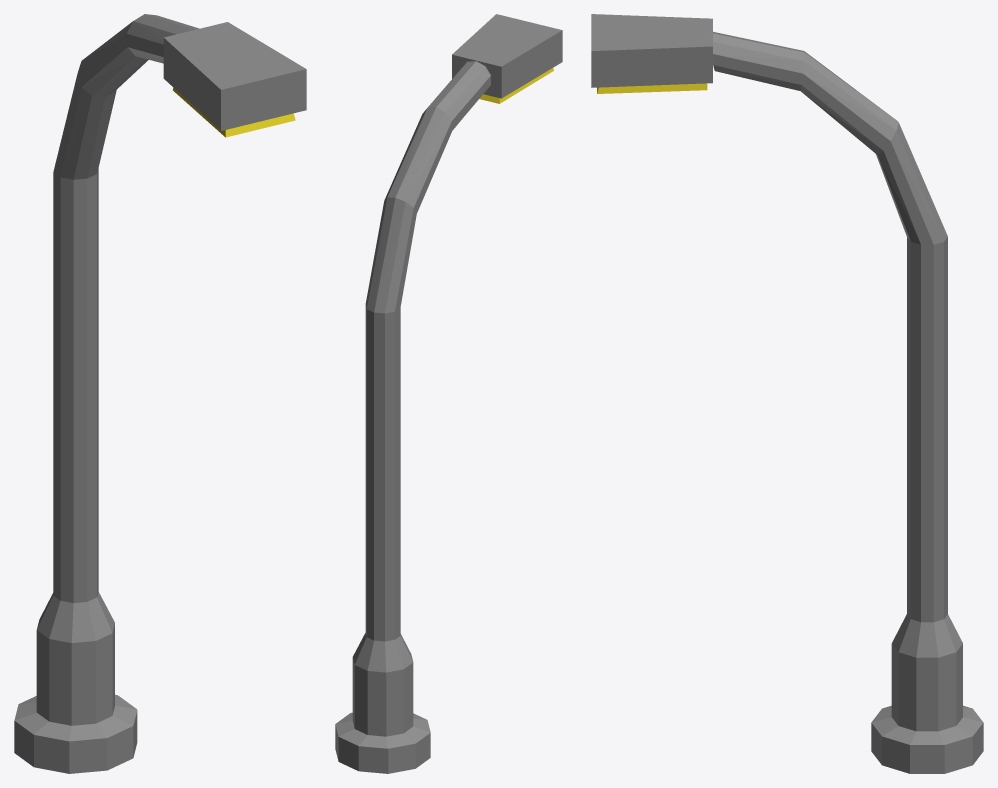
Rendered from zsky_light-pole_uxe1.glb.
3 views of the same model, side by side, from view 1: azimuth 30°, elevation 25°; view 2: azimuth 150°, elevation 25°; view 3: azimuth 270°, elevation 25° (orthographic). The views are drawn at different scales.
Visible parts, largest first — view 1: LightPole_01_Cube.042; view 2: LightPole_01_Cube.042; view 3: LightPole_01_Cube.042.
Boxes of the visible parts, x1=… form: LightPole_01_Cube.042: x1=14, y1=14, x2=306, y2=773; LightPole_01_Cube.042: x1=335, y1=14, x2=562, y2=773; LightPole_01_Cube.042: x1=591, y1=14, x2=983, y2=773.
Bounding box in the file's own units: 6.49 × 48.24 × 23.84.
